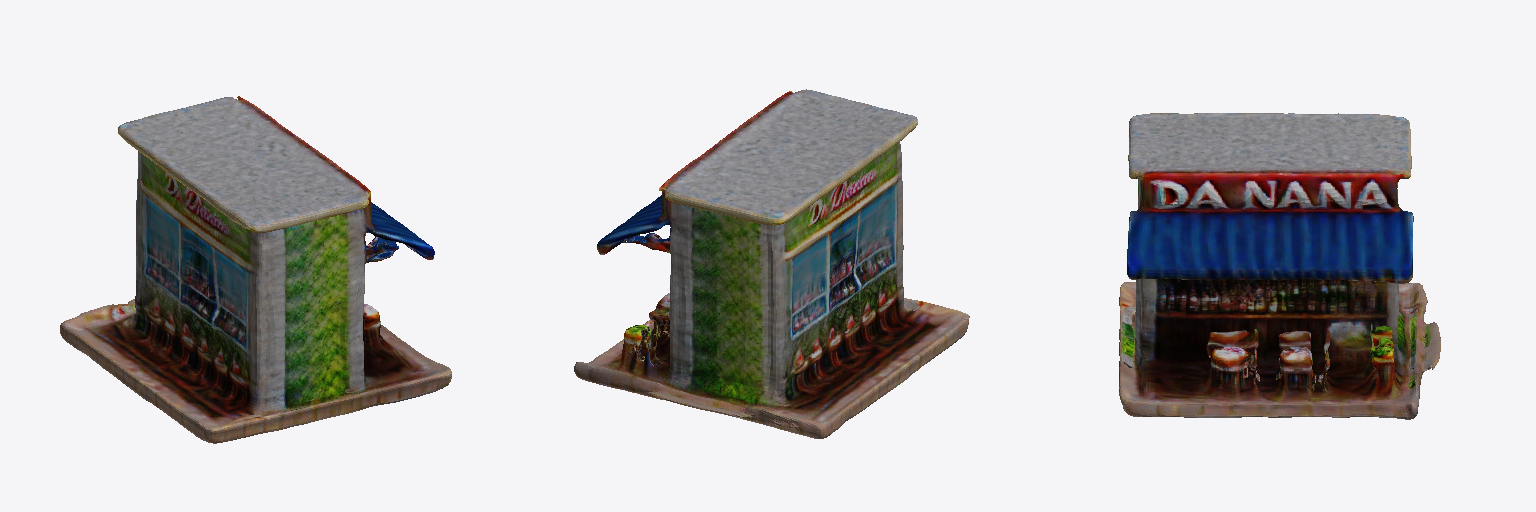
3 renders of one model, left to right at view 1: azimuth 30°, elevation 25°; view 2: azimuth 150°, elevation 25°; view 3: azimuth 270°, elevation 25°, orthographic.
Visible parts, largest first — view 1: mesh; view 2: mesh; view 3: mesh.
Part boxes in pixels (left/top/right/bottom): mesh: left=60, top=96, right=451, bottom=443; mesh: left=574, top=89, right=969, bottom=438; mesh: left=1119, top=113, right=1440, bottom=419.
Bounding box in the file's own units: 0.9067 × 0.7196 × 0.9983.
Materials: 1 (1 with a texture image).